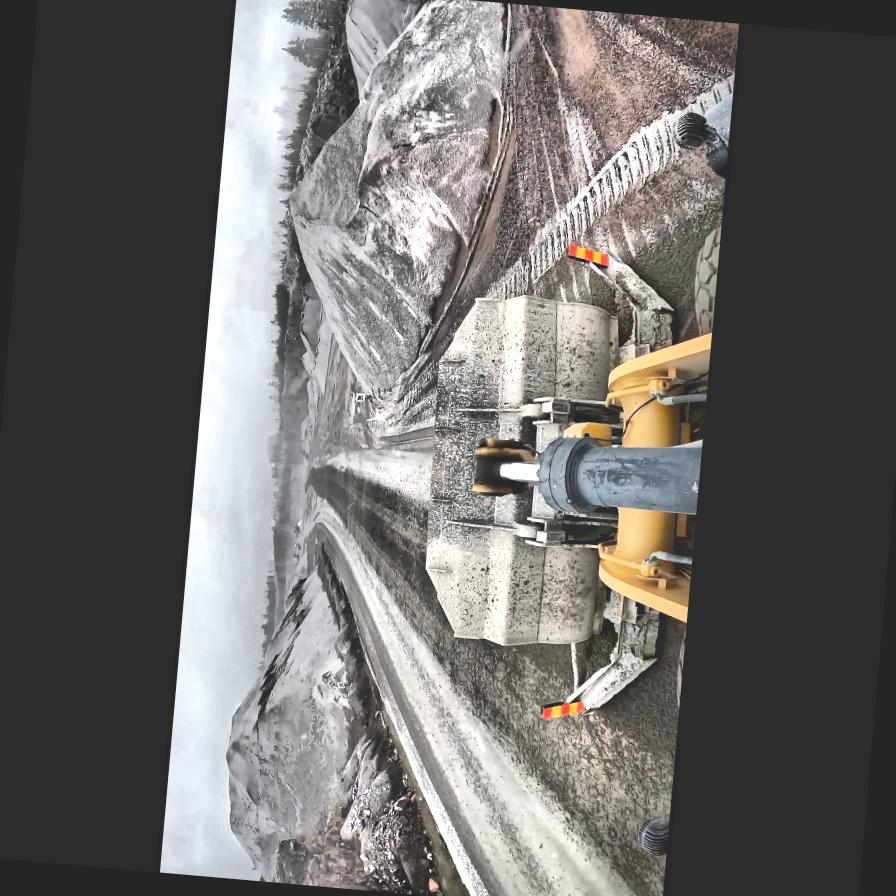anchor: (467, 438, 536, 497)
pile of gravel: (265, 0, 516, 432), (214, 553, 379, 889), (288, 274, 334, 398), (297, 349, 315, 380)
